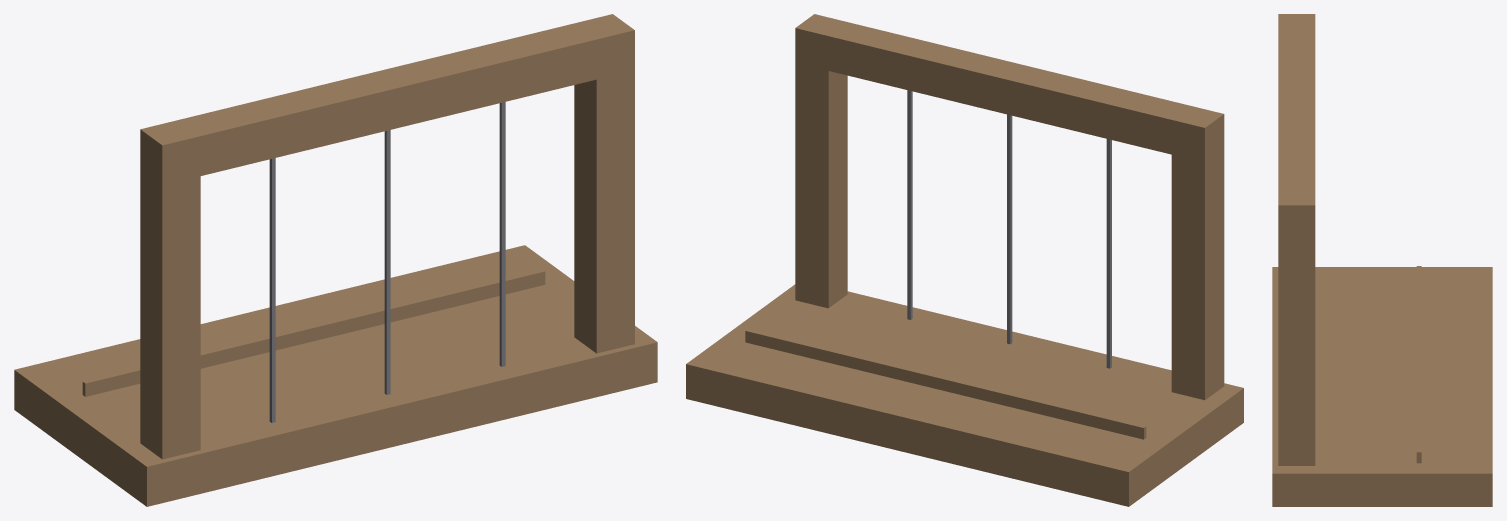
Rendered from prop-cutting-wire-frame.fbx.
The picture shows the model from 3 angles, left to right: view 1: azimuth 30°, elevation 25°; view 2: azimuth 150°, elevation 25°; view 3: azimuth 270°, elevation 25°; orthographic projection. The views are drawn at different scales.
Parts seen in each view (by area): view 1: prop-cutting-wire-frame; view 2: prop-cutting-wire-frame; view 3: prop-cutting-wire-frame.
Part boxes in pixels (<box>): prop-cutting-wire-frame: <box>14,14,657,506</box>; prop-cutting-wire-frame: <box>686,14,1243,506</box>; prop-cutting-wire-frame: <box>1272,14,1492,506</box>.
Bounding box in the file's own units: 40 × 26.5 × 18.
